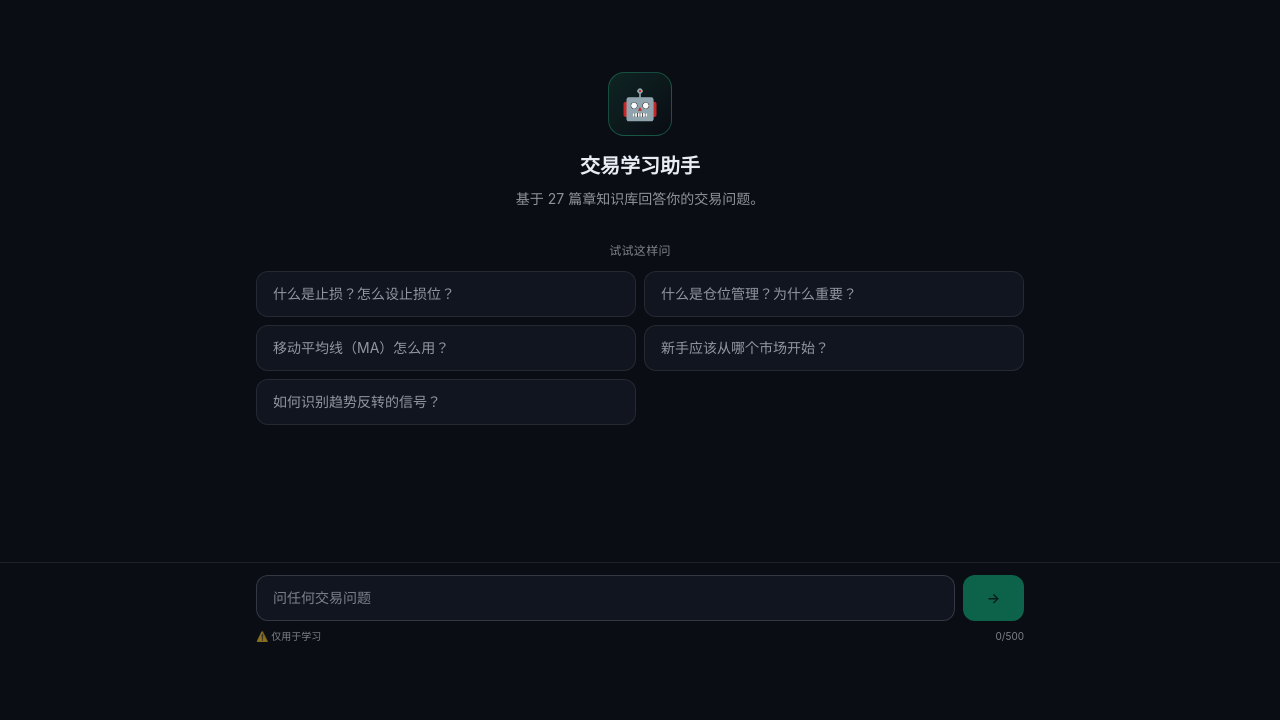
Test: AiChat 配额提示（R1.12） › 空响应会展示通用错误，且后续手动提问仍可继续
The width and height of the screenshot is (1280, 720).
Click the button "什么是止损？怎么设止损位？": (446, 294) 256,271 -> 636,317
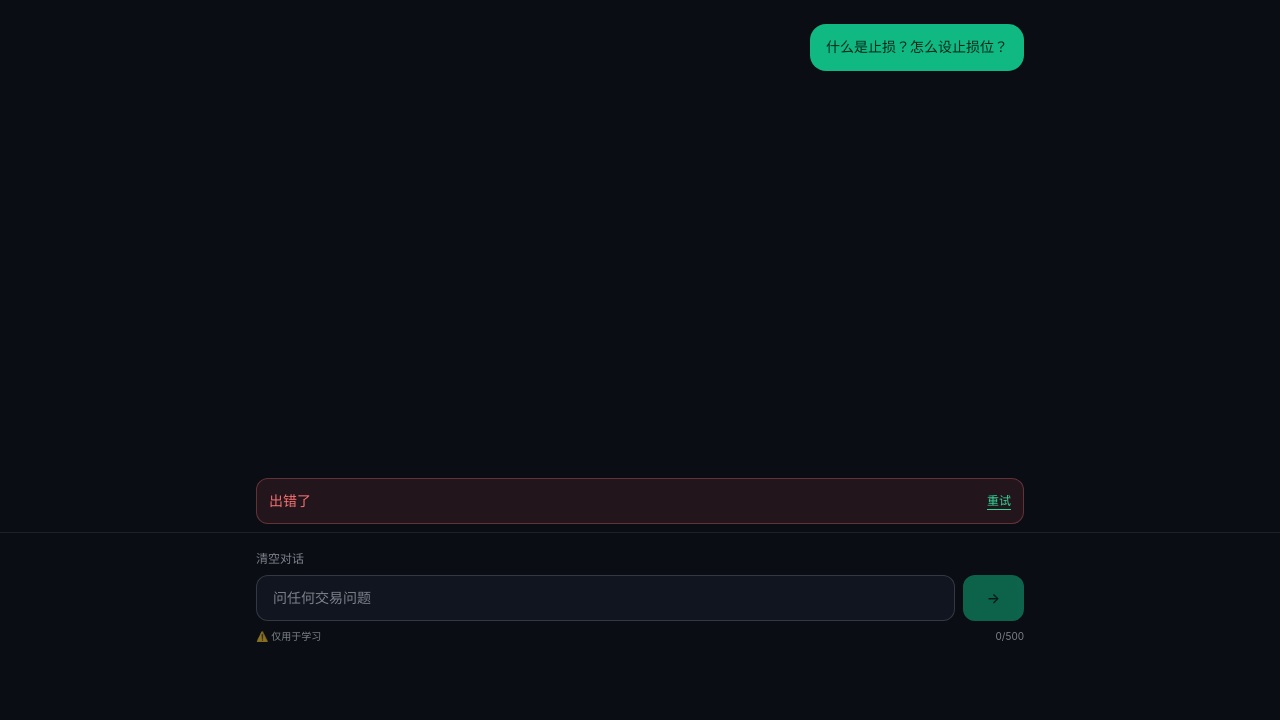
Check: the text "出错了" is shown, box 269,491 -> 311,511
Click the button "重试": (999, 501) 987,493 -> 1011,509
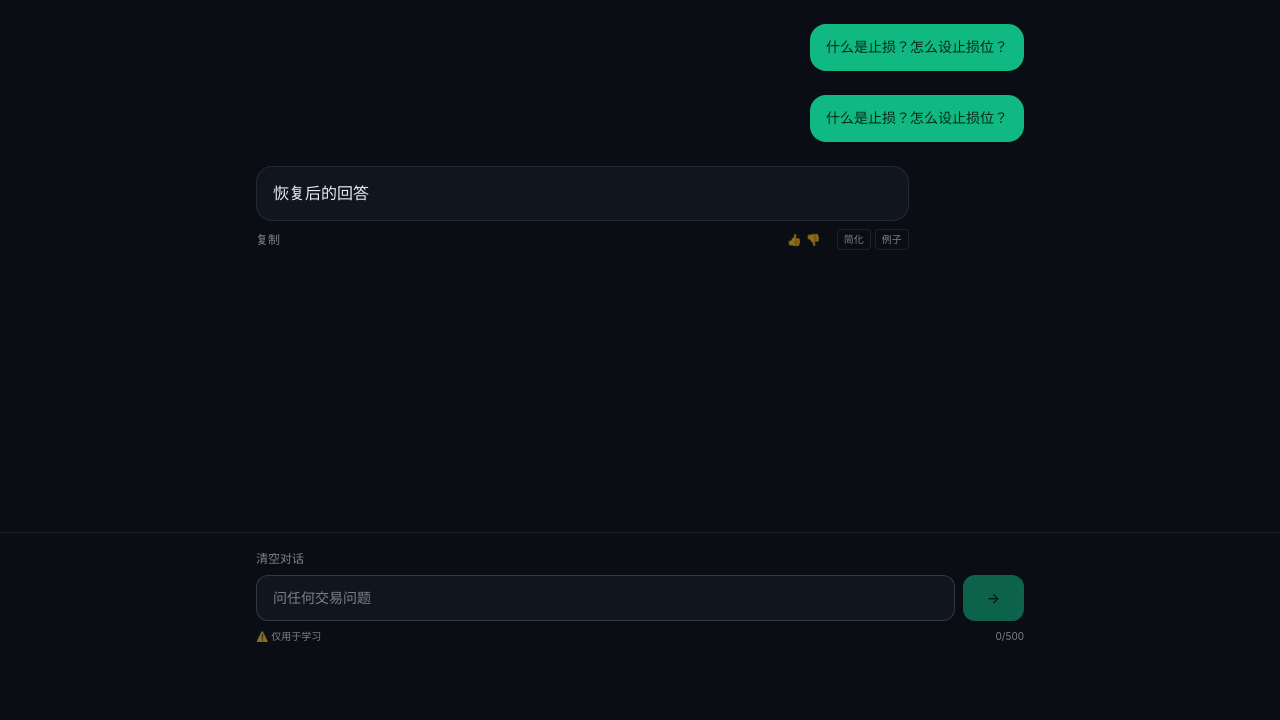
Check: the text "恢复后的回答" is shown, box 273,182 -> 369,202
